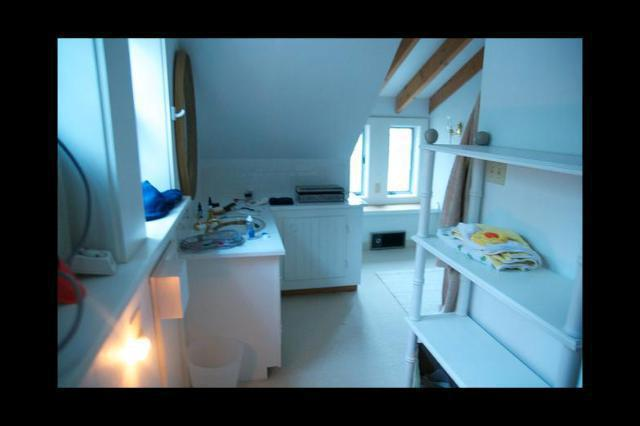Bote de Basura: (180, 337, 242, 387)
Lavamanos: (191, 207, 272, 242)
